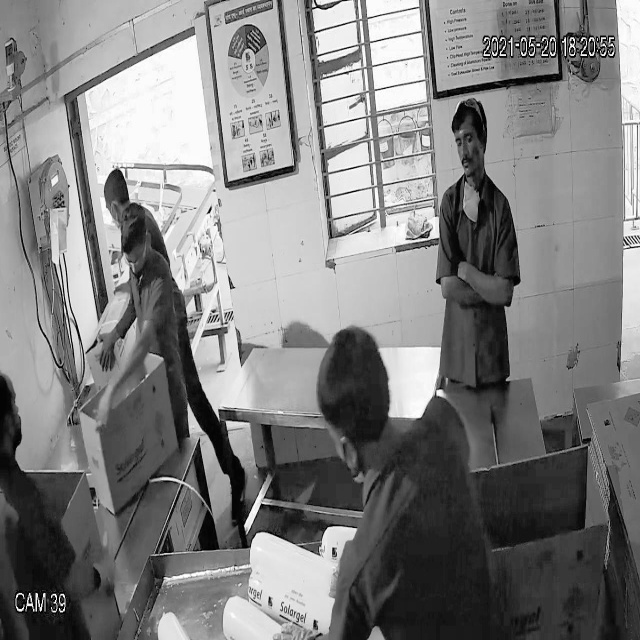Sin_gafas: (446, 125, 490, 152)
